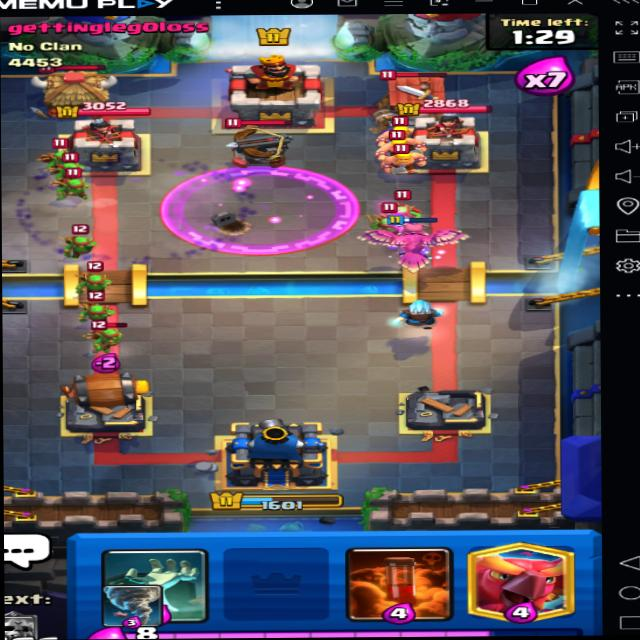barbarian: (374, 146, 429, 173), (372, 132, 431, 153)
barbarian-hut: (376, 67, 455, 124)
goblin-hut: (32, 59, 112, 114)
rage: (164, 163, 360, 252)
spear-goblin: (378, 194, 430, 222), (54, 171, 95, 200), (80, 295, 111, 326), (62, 227, 94, 256), (91, 324, 126, 349), (76, 268, 112, 292), (42, 147, 80, 168), (55, 149, 86, 174), (369, 210, 403, 228)
x-bow: (204, 110, 301, 173)
